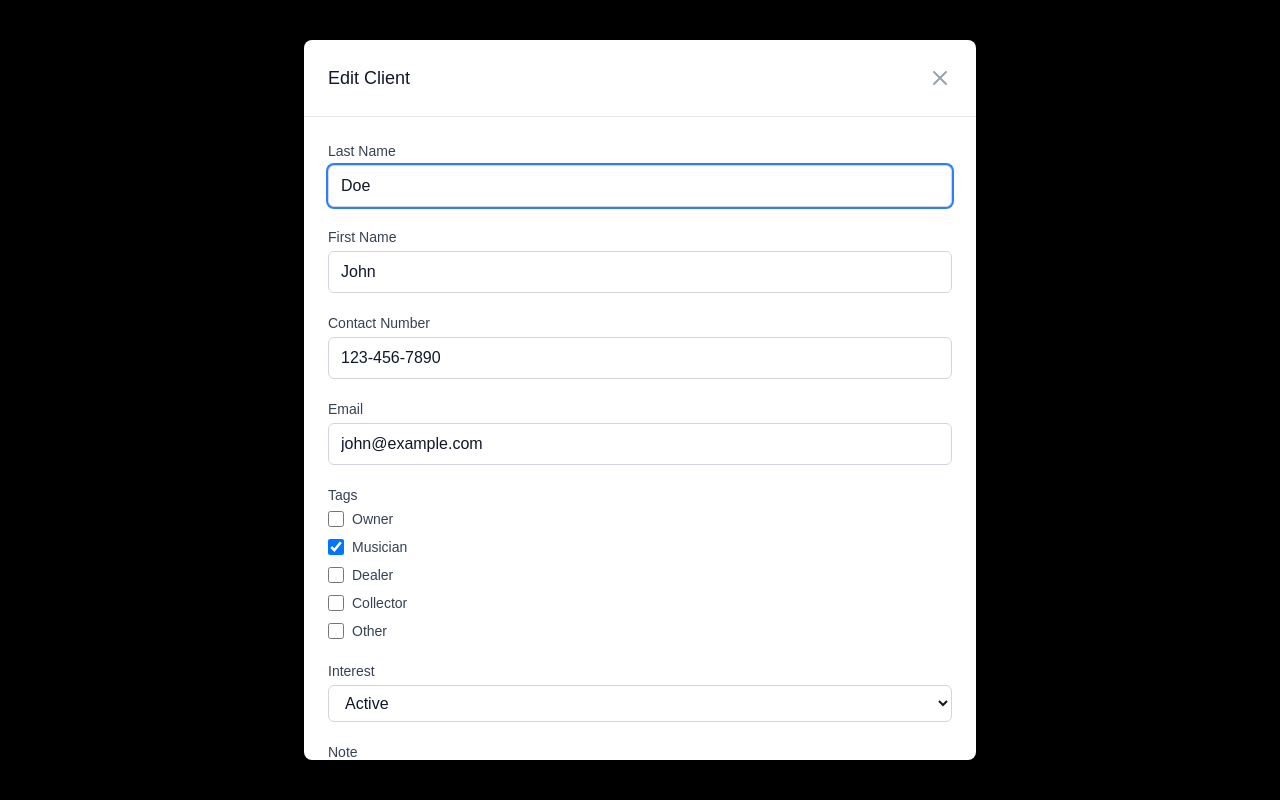
it: ClientModal focused validation › rejects saving when both names are blank
The width and height of the screenshot is (1280, 800).
Clear the field with placeholder "Enter first name" at (640, 272), box [328,251,952,293]
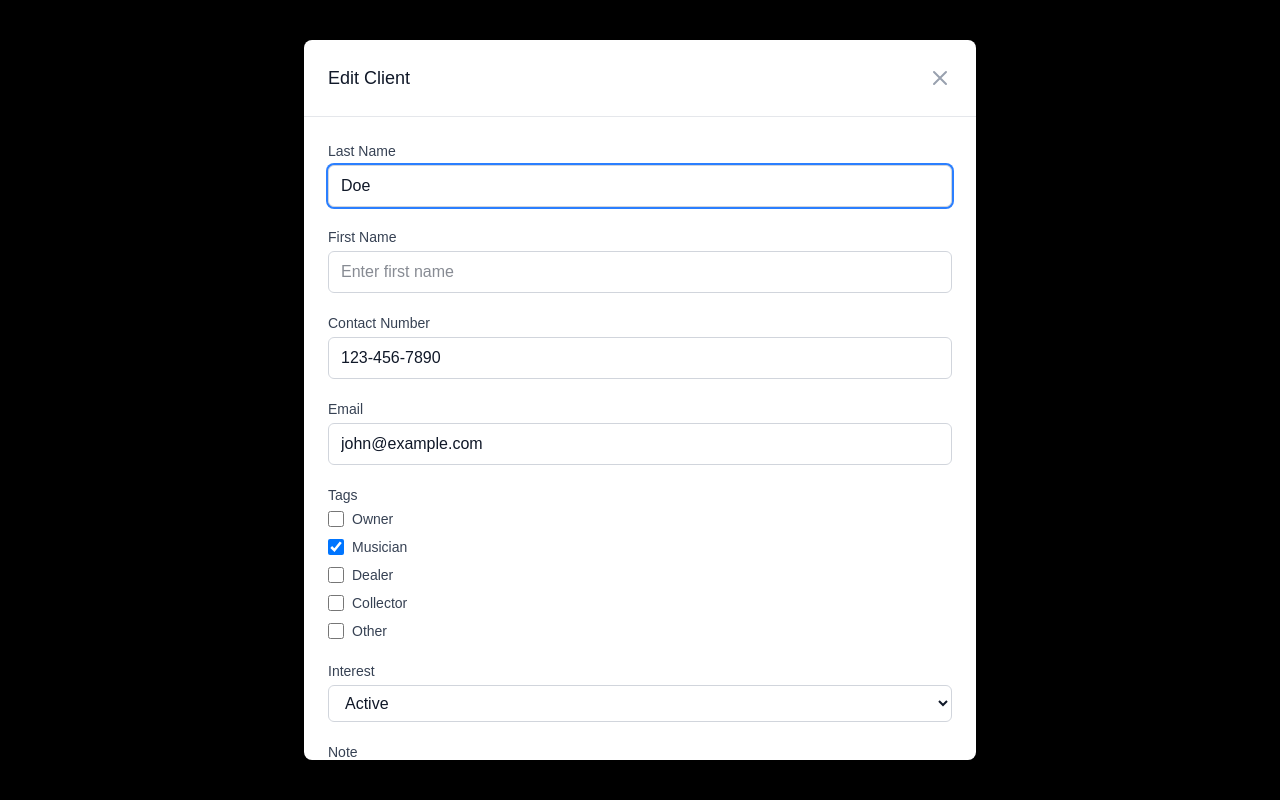
Clear the field with placeholder "Enter last name" at (640, 186), box [328,165,952,207]
(page scrolled)
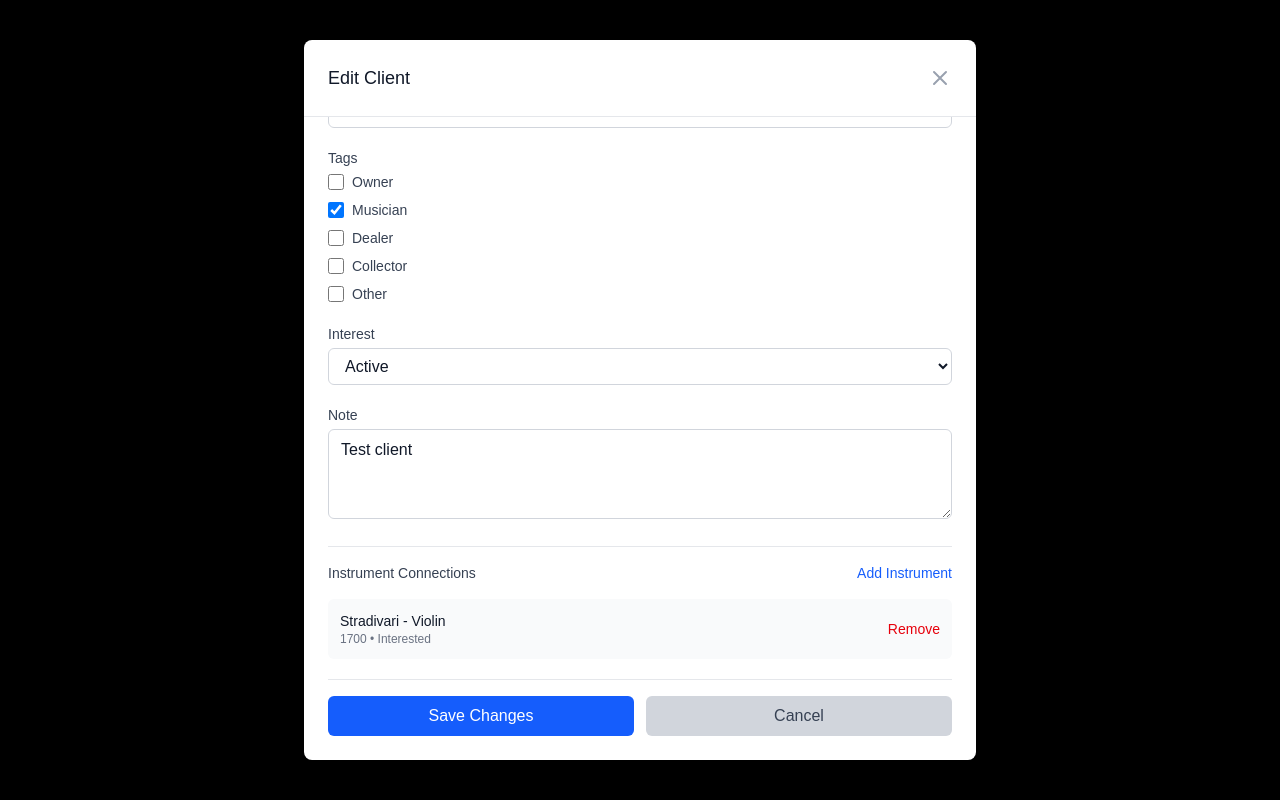
Click the button "Save Changes" at (481, 716), box [328,696,634,736]
(page scrolled)
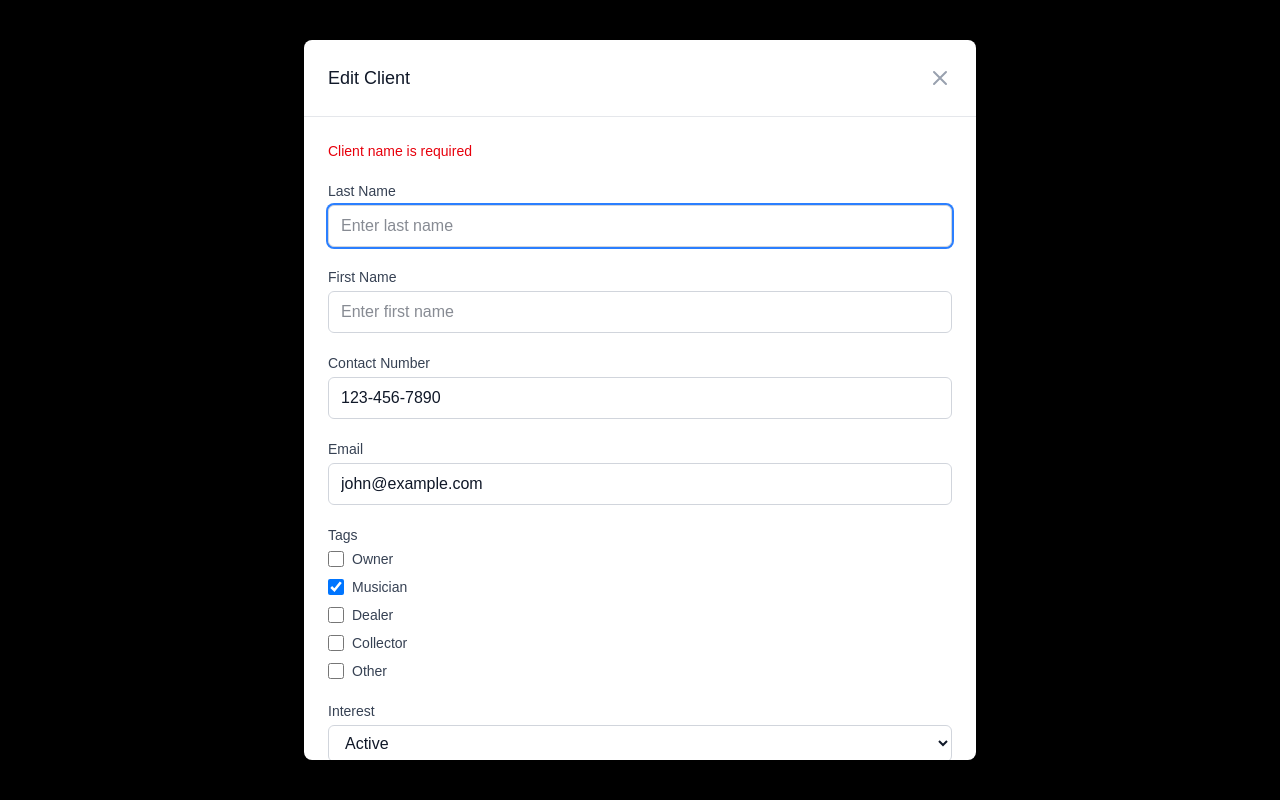
Now the message reads "Client name is required", box [328,143,472,159]
